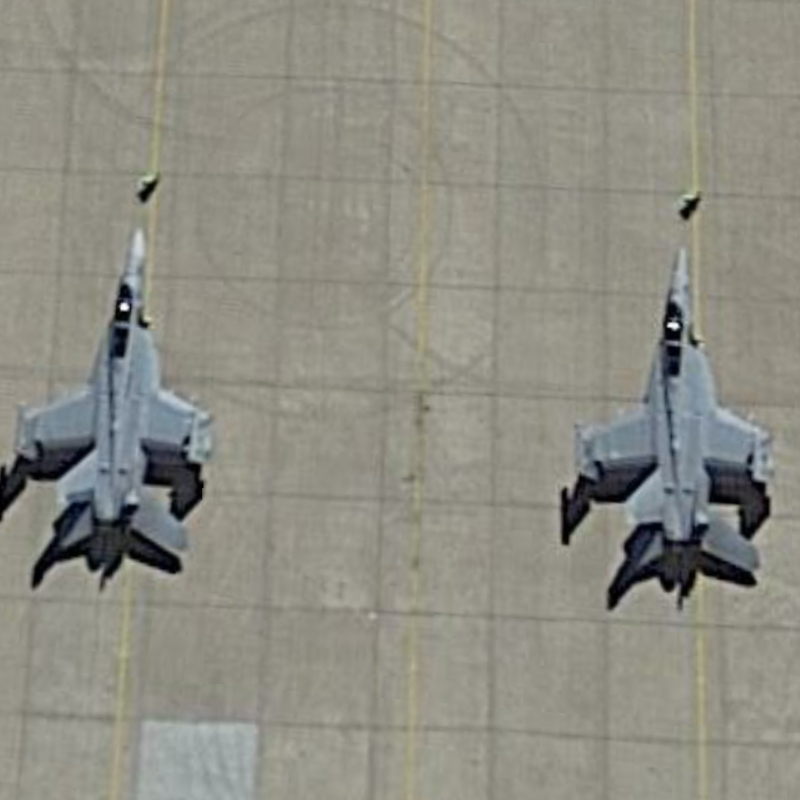A16: (4, 215, 217, 573), (568, 239, 780, 588)
